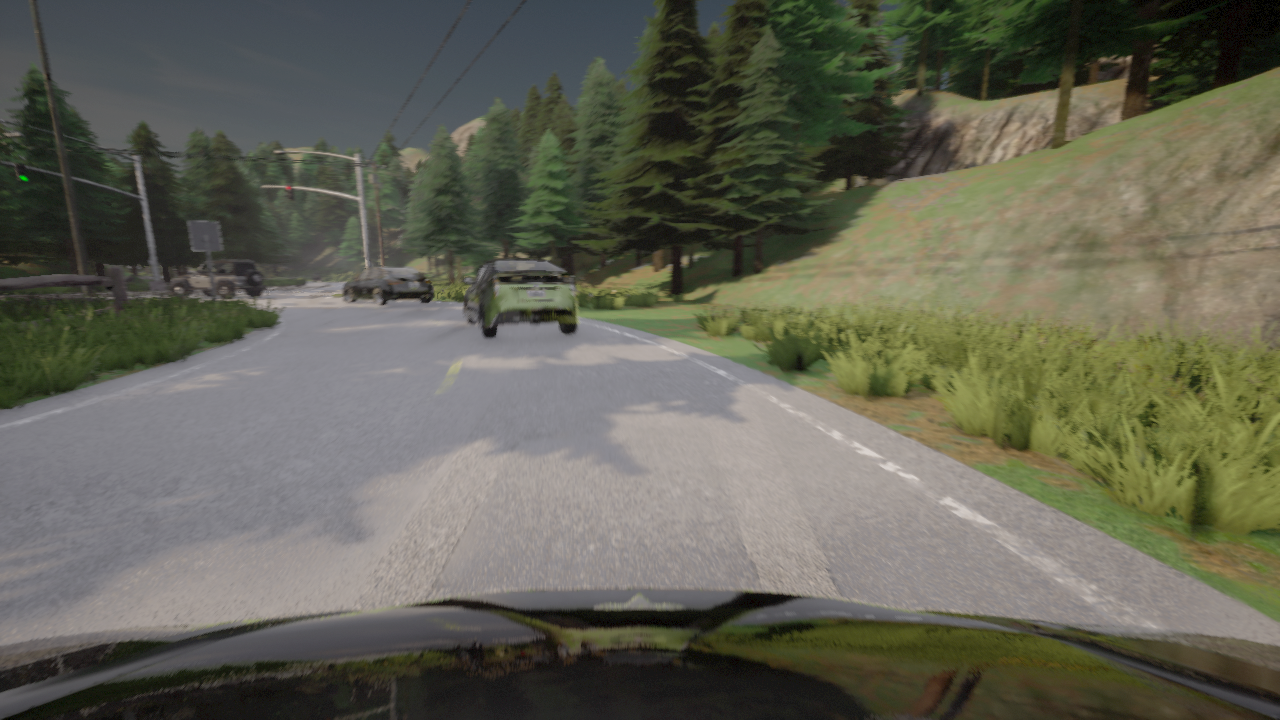cyclist: (0, 588, 1279, 719), (464, 258, 578, 338), (168, 259, 266, 298), (344, 267, 432, 305), (313, 275, 322, 281)
